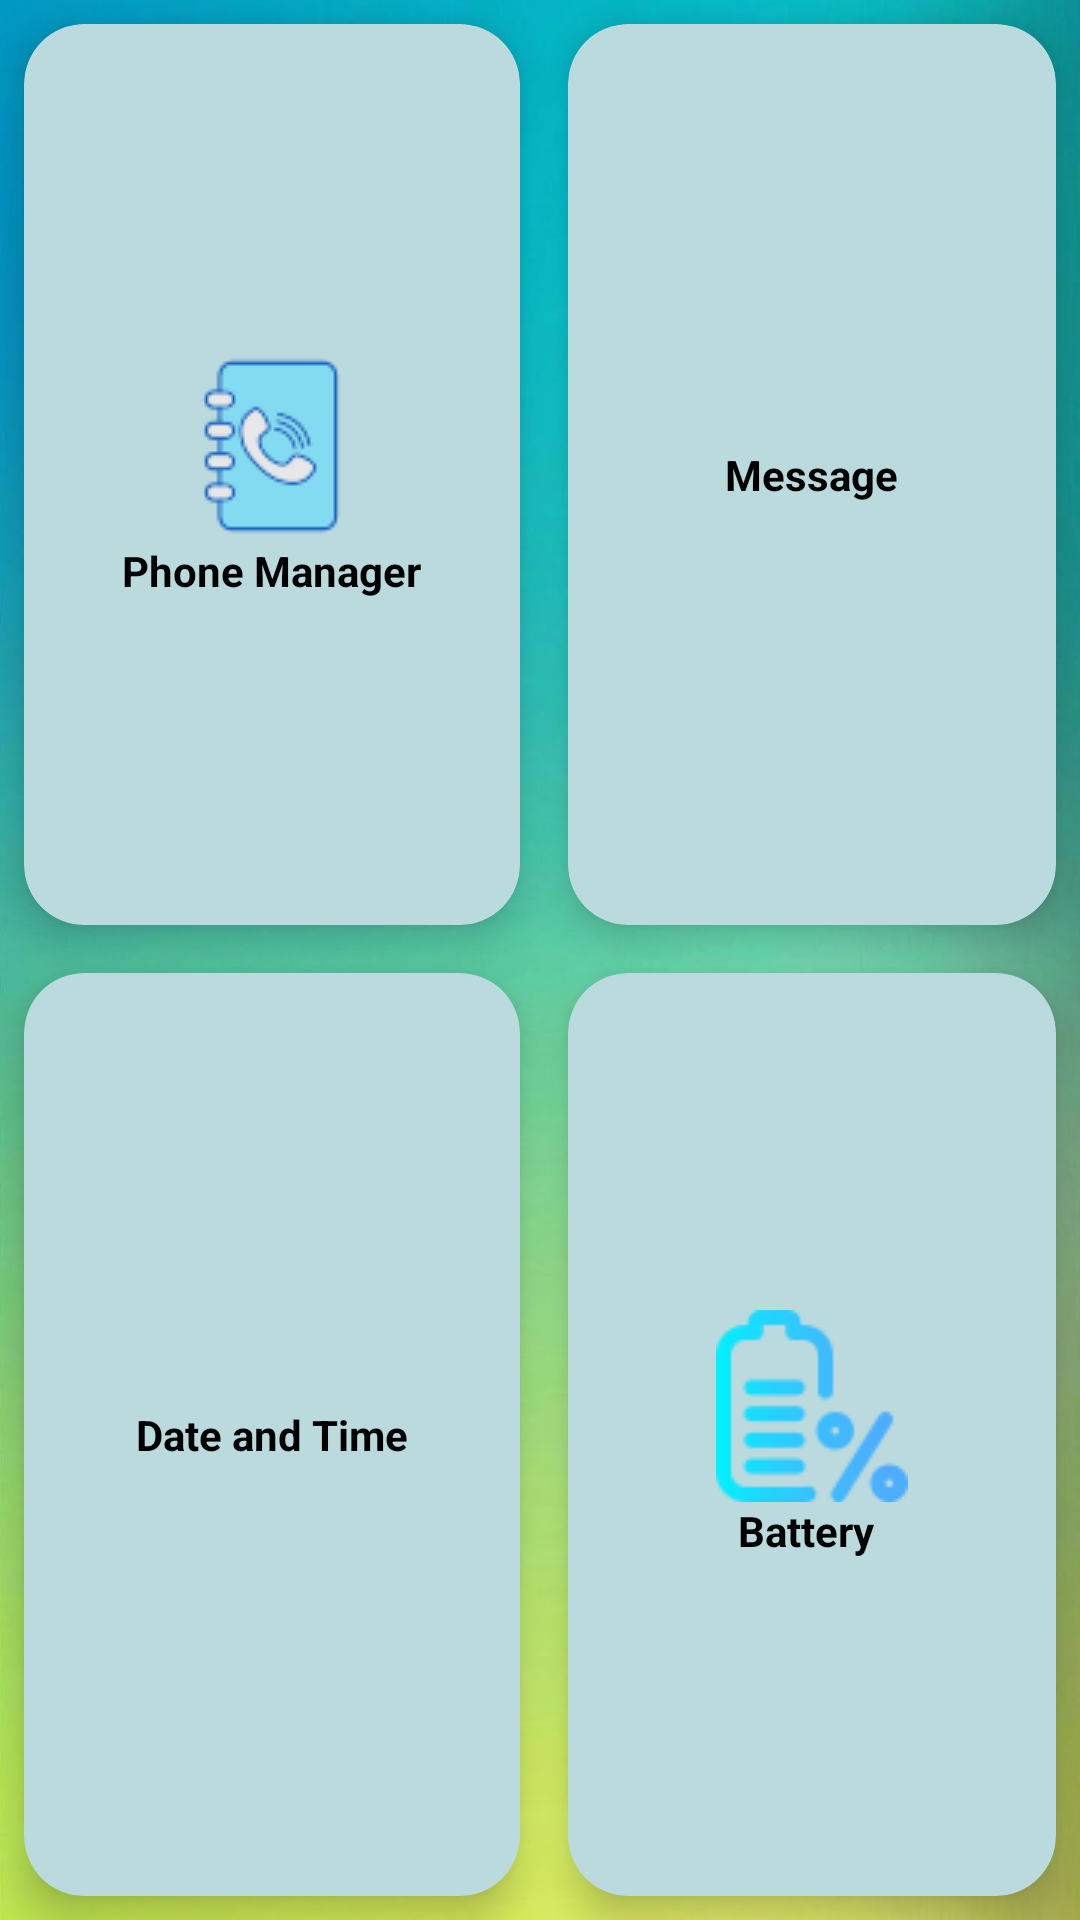

Icon bounding boxes for this 1080w x 1920h phone screenshot, format (x1, y1, x2, y2):
percentage: (716, 1310, 908, 1502)
